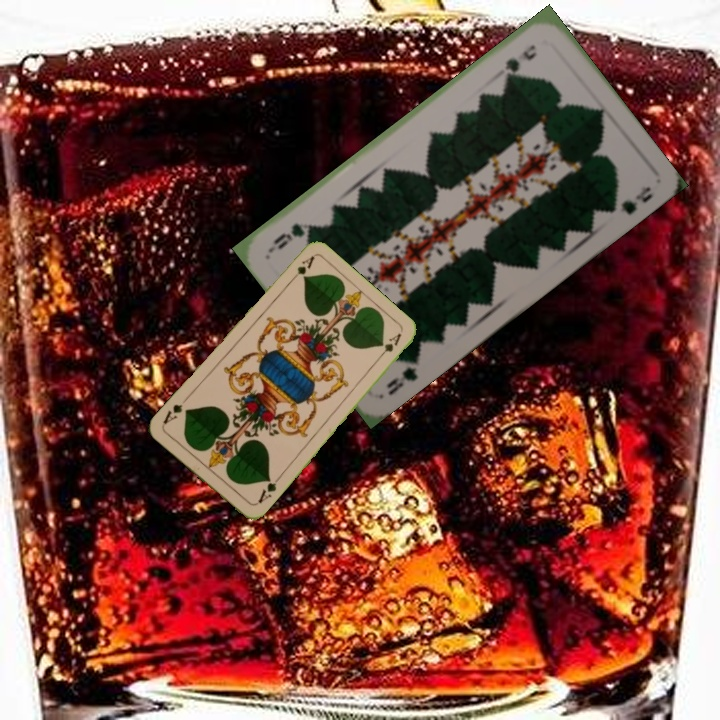G9: (382, 352, 422, 398), (500, 40, 539, 80)
GA: (285, 252, 317, 286), (251, 473, 282, 507)
